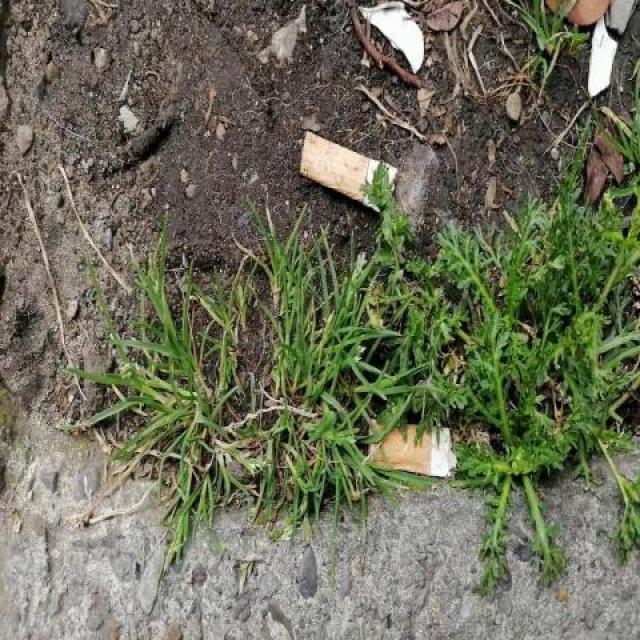non-organic waste: (296, 125, 403, 218), (363, 414, 461, 489)
